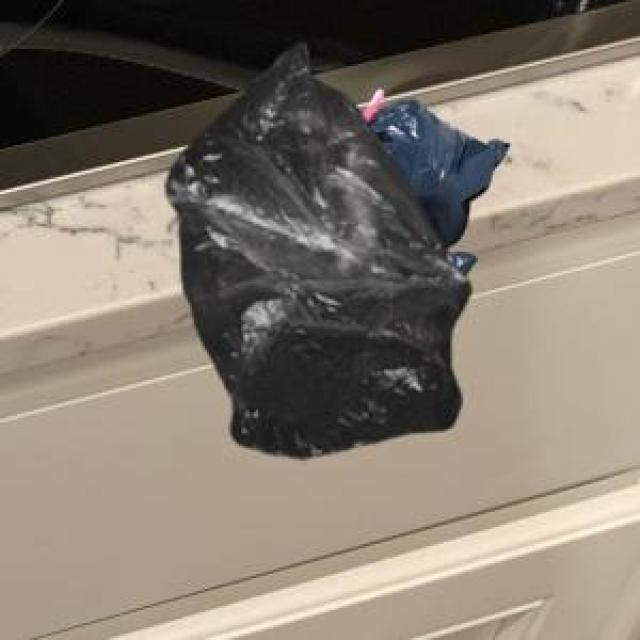miscellaneous trash: (358, 85, 506, 271)
